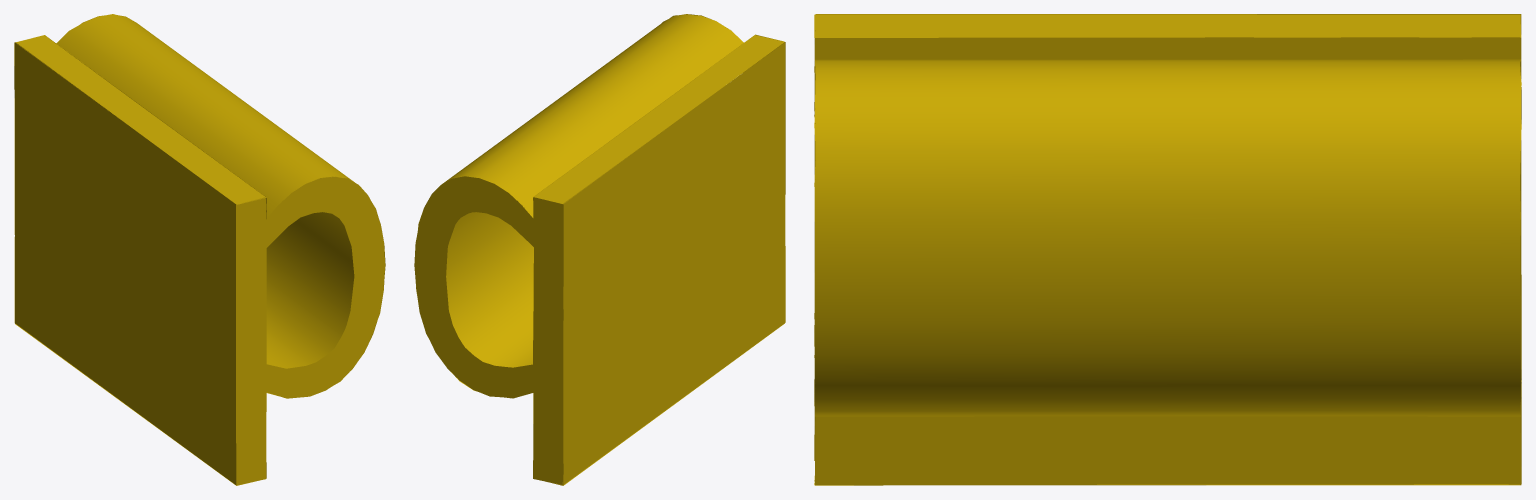
File: original-12.obj
3 views of the same model, side by side, from view 1: azimuth 30°, elevation 25°; view 2: azimuth 150°, elevation 25°; view 3: azimuth 270°, elevation 25° (orthographic). The views are drawn at different scales.
Parts seen in each view (by area): view 1: #ID75; view 2: #ID75; view 3: #ID75.
Part boxes in pixels (bbox=[...]): #ID75: bbox=[14, 14, 385, 485]; #ID75: bbox=[414, 14, 785, 485]; #ID75: bbox=[814, 14, 1521, 485].
Size of the model in its own units: 0.03 by 0.0553 by 0.0774.
